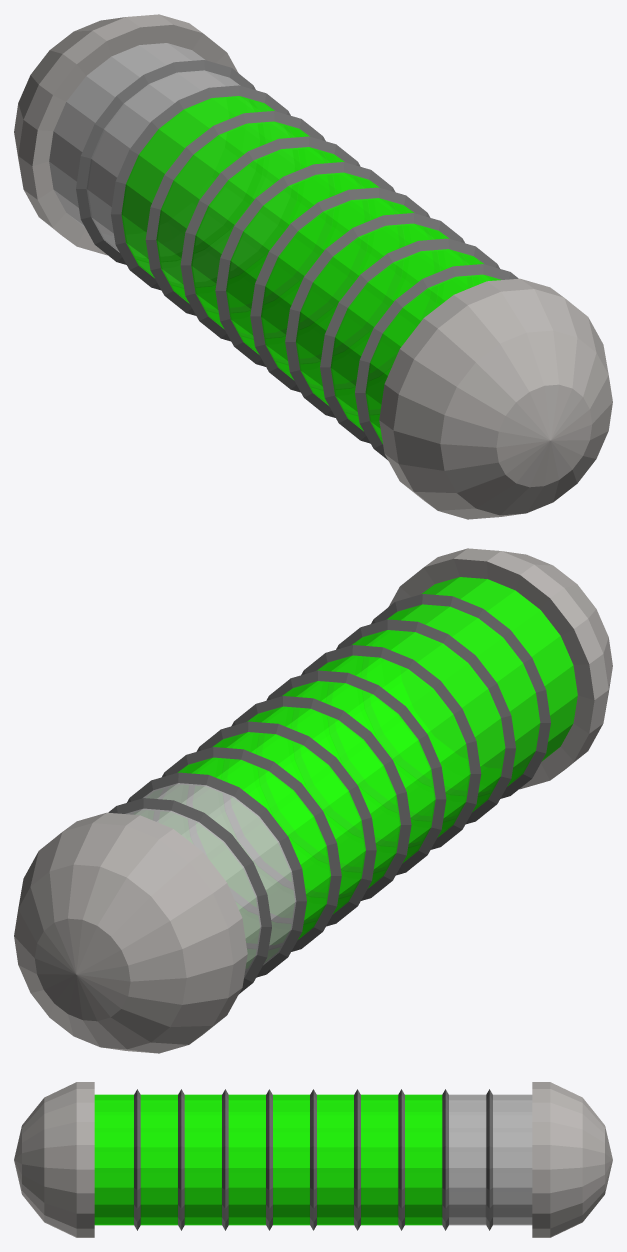
Rendered from TowerHealth.fbx.
3 views of the same model, one above another, from view 1: azimuth 30°, elevation 25°; view 2: azimuth 150°, elevation 25°; view 3: azimuth 270°, elevation 25° (orthographic). The views are drawn at different scales.
Visible parts, largest first — view 1: Top, Bottom, TowerHealth.001, TowerHealth.013, TowerHealth.020, TowerHealth.018, TowerHealth.017, TowerHealth.004, TowerHealth.002, TowerHealth.005, TowerHealth.019, TowerHealth.012 (+9 smaller); view 2: Bottom, Top, TowerHealth.012, TowerHealth.002, TowerHealth.019, TowerHealth.018, TowerHealth.005, TowerHealth.004, TowerHealth.013, TowerHealth.020, TowerHealth.017, TowerHealth.001 (+9 smaller); view 3: Top, Bottom, TowerHealth.012, TowerHealth.001, TowerHealth.019, TowerHealth.018, TowerHealth.013, TowerHealth.017, TowerHealth.004, TowerHealth.002, TowerHealth.020, TowerHealth.005 (+9 smaller).
Part boxes in pixels (x1,y1,x2,y2): Top: (379,278,612,519); Bottom: (14,14,238,255); TowerHealth.001: (49,43,204,227); TowerHealth.013: (330,249,483,431); TowerHealth.020: (226,172,379,354); TowerHealth.018: (261,198,413,379); TowerHealth.017: (121,96,274,278); TowerHealth.004: (156,121,309,303); TowerHealth.002: (86,70,240,252); TowerHealth.005: (191,147,344,329); TowerHealth.019: (296,223,449,405); TowerHealth.012: (365,274,501,443); Bottom: (14,812,247,1053); Top: (388,548,612,789); TowerHealth.012: (422,577,577,761); TowerHealth.002: (143,783,296,965); TowerHealth.019: (352,630,505,812); TowerHealth.018: (317,655,470,837); TowerHealth.005: (247,706,400,888); TowerHealth.004: (213,732,365,913); TowerHealth.013: (386,604,540,786); TowerHealth.020: (282,681,435,863); TowerHealth.017: (177,757,330,939); TowerHealth.001: (125,808,261,977); Top: (14,1082,94,1237); Bottom: (532,1082,612,1237); TowerHealth.012: (94,1094,133,1225); TowerHealth.001: (493,1094,532,1225); TowerHealth.019: (184,1094,221,1225); TowerHealth.018: (228,1094,265,1225); TowerHealth.013: (140,1094,177,1225); TowerHealth.017: (405,1094,442,1225); TowerHealth.004: (361,1094,398,1225); TowerHealth.002: (449,1094,486,1225); TowerHealth.020: (273,1094,309,1225); TowerHealth.005: (317,1094,353,1225).
Bounding box in the file's own units: 108 × 108 × 410.
